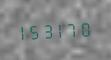five: (29, 21, 40, 40)
one: (17, 21, 28, 41), (54, 20, 65, 39)
seven: (66, 19, 77, 38)
three: (42, 20, 53, 40)
zero: (78, 18, 89, 38)
